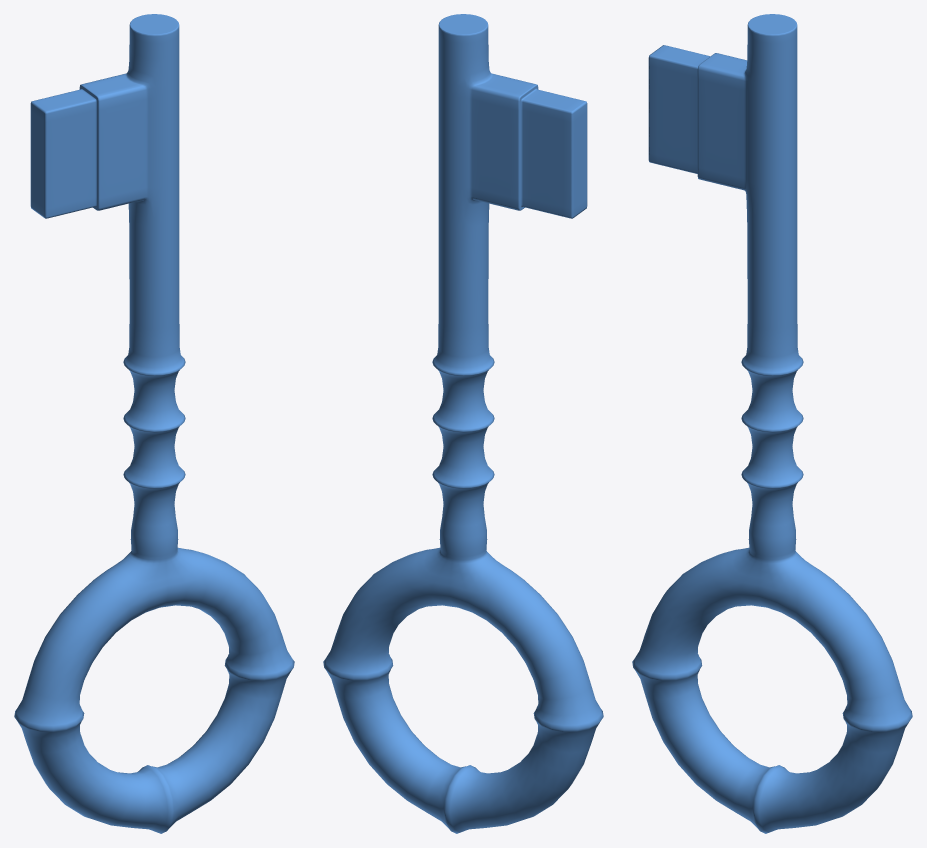
Rendered from key.glb.
3 views of the same model, side by side, from view 1: azimuth 30°, elevation 25°; view 2: azimuth 150°, elevation 25°; view 3: azimuth 330°, elevation 25° (orthographic).
Visible parts, largest first — view 1: Key; view 2: Key; view 3: Key.
Part boxes in pixels (bbox=[...]): Key: bbox=[14, 14, 294, 833]; Key: bbox=[323, 14, 603, 833]; Key: bbox=[632, 14, 912, 833].
Size of the model in its own units: 0.4593 by 1.3 by 0.1035.
